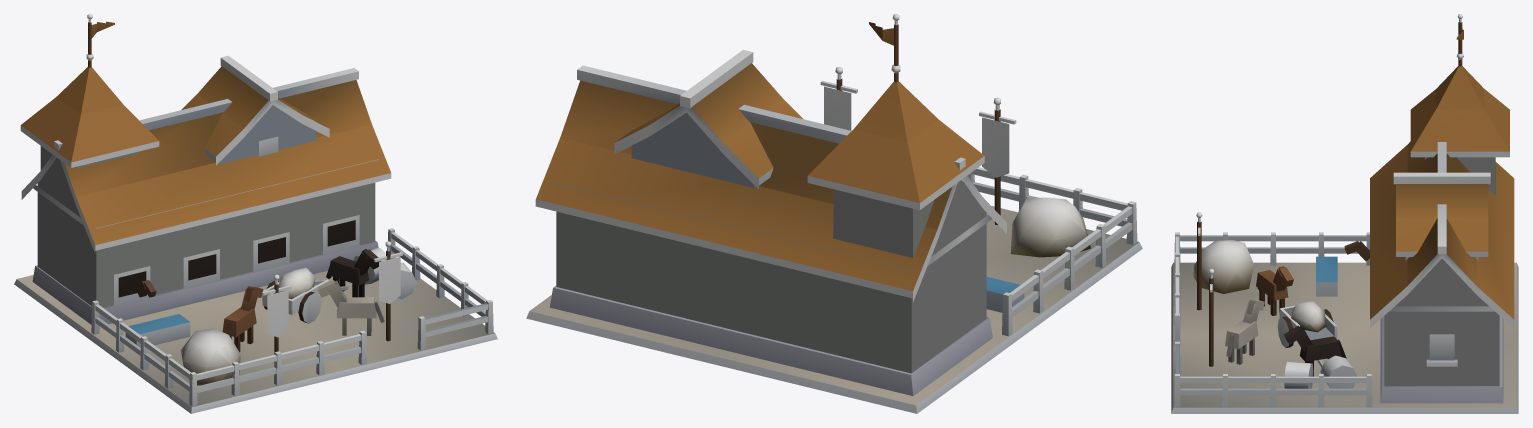
The model's file is stable_t5.glb.
3 renders of one model, left to right at view 1: azimuth 30°, elevation 25°; view 2: azimuth 150°, elevation 25°; view 3: azimuth 270°, elevation 25°, orthographic. The views are drawn at different scales.
Visible parts, largest first — view 1: stable_t5; view 2: stable_t5; view 3: stable_t5.
Boxes of the visible parts, x1,y1,x2,y2 form: stable_t5: (14, 14, 497, 413); stable_t5: (526, 14, 1142, 413); stable_t5: (1171, 14, 1518, 413).
Size of the model in its own units: 2.86 by 2.5 by 2.86.
